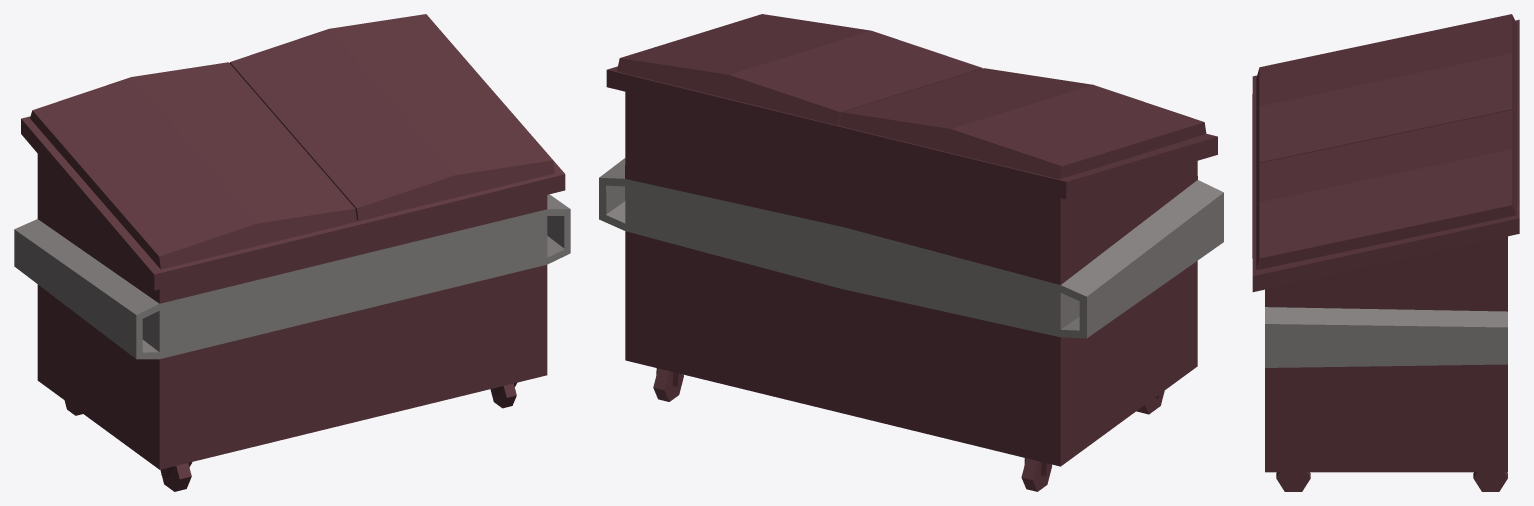
Rendered from dumpster-lids.fbx.
3 views of the same model, side by side, from view 1: azimuth 30°, elevation 25°; view 2: azimuth 150°, elevation 25°; view 3: azimuth 270°, elevation 25° (orthographic). The views are drawn at different scales.
Parts seen in each view (by area): view 1: dumpster-lids-base, dumpster-lid_L, dumpster-lid_B; view 2: dumpster-lids-base, dumpster-lid_L, dumpster-lid_B; view 3: dumpster-lids-base, dumpster-lid_B, dumpster-lid_L.
Boxes of the visible parts, <box> form: dumpster-lids-base: <box>14,91,570,491</box>; dumpster-lid_L: <box>30,62,356,269</box>; dumpster-lid_B: <box>229,14,554,221</box>; dumpster-lids-base: <box>599,66,1223,491</box>; dumpster-lid_L: <box>839,68,1206,179</box>; dumpster-lid_B: <box>617,14,982,125</box>; dumpster-lids-base: <box>1252,19,1519,491</box>; dumpster-lid_B: <box>1256,110,1516,270</box>; dumpster-lid_L: <box>1256,14,1516,173</box>.
Bounding box in the file's own units: 2.05 × 1.42 × 1.1.
